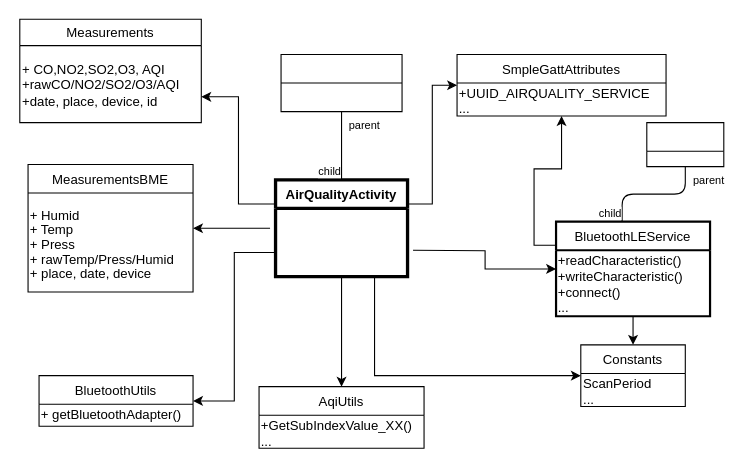
The diagram is 743 pixels wide and 470 high, and some of its shapes have lost their labels. The shapes that lost their labels are listed below. From the top down, each one's centre as x and y in pixels, then its label:
[341,82]: AppCompatActivity
[685,144]: Service
